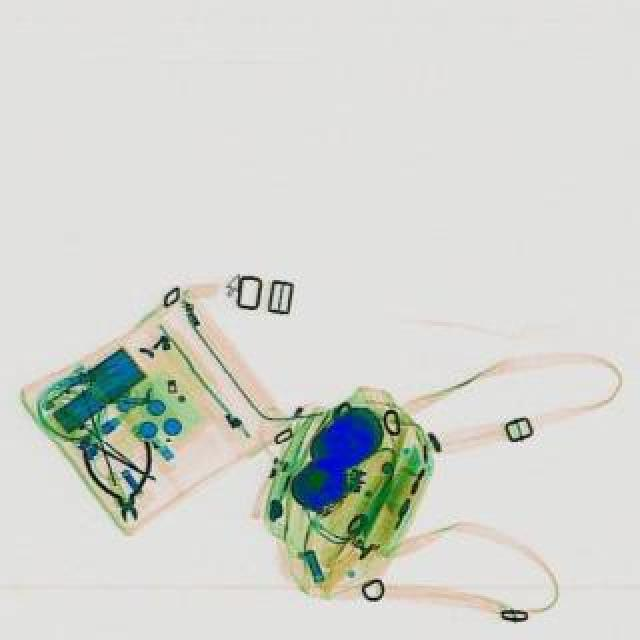wrench: (84, 436, 166, 526)
